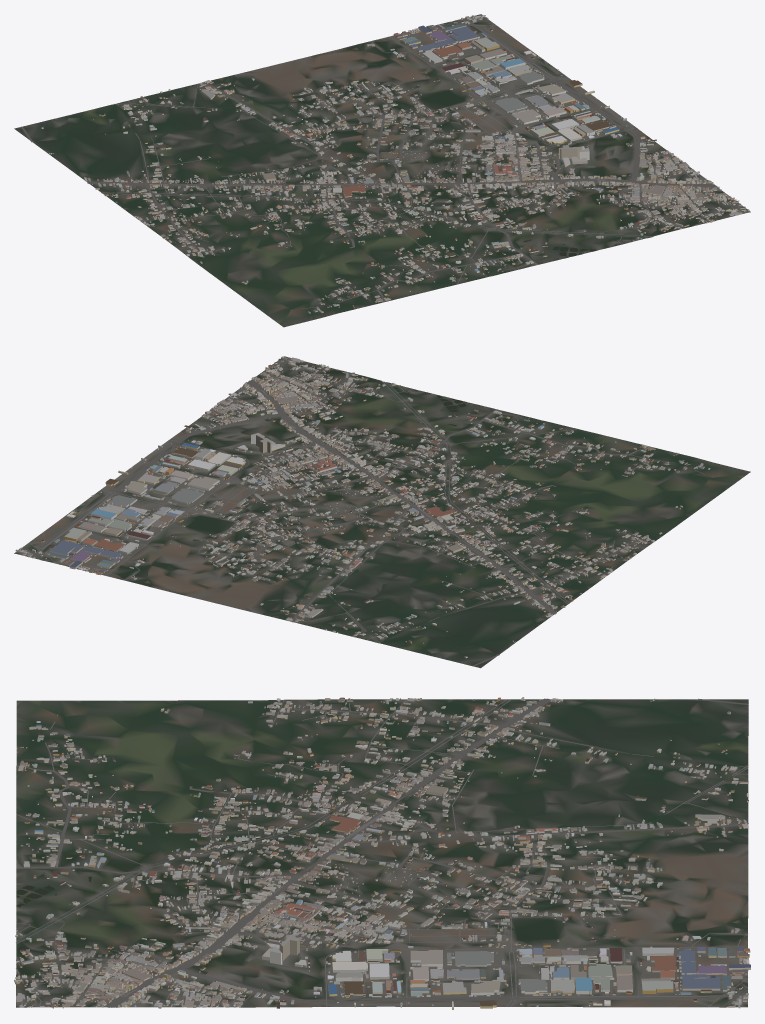
The picture shows the model from 3 angles, top to bottom: view 1: azimuth 30°, elevation 25°; view 2: azimuth 150°, elevation 25°; view 3: azimuth 270°, elevation 25°; orthographic projection. The views are drawn at different scales.
Visible parts, largest first — view 1: ground, buildings, roads; view 2: ground, buildings, roads; view 3: ground, buildings, roads, water.
Part boxes in pixels (x1=…): ground: x1=14, y1=14, x2=750, y2=327; buildings: x1=41, y1=15, x2=749, y2=313; roads: x1=21, y1=18, x2=743, y2=310; ground: x1=14, y1=356, x2=750, y2=668; buildings: x1=15, y1=356, x2=710, y2=658; roads: x1=18, y1=358, x2=714, y2=666; ground: x1=16, y1=699, x2=748, y2=1007; buildings: x1=14, y1=697, x2=750, y2=1009; roads: x1=16, y1=698, x2=748, y2=1007; water: x1=16, y1=767, x2=746, y2=1007.
Size of the model in its own units: 2833 by 71.24 by 2820.
